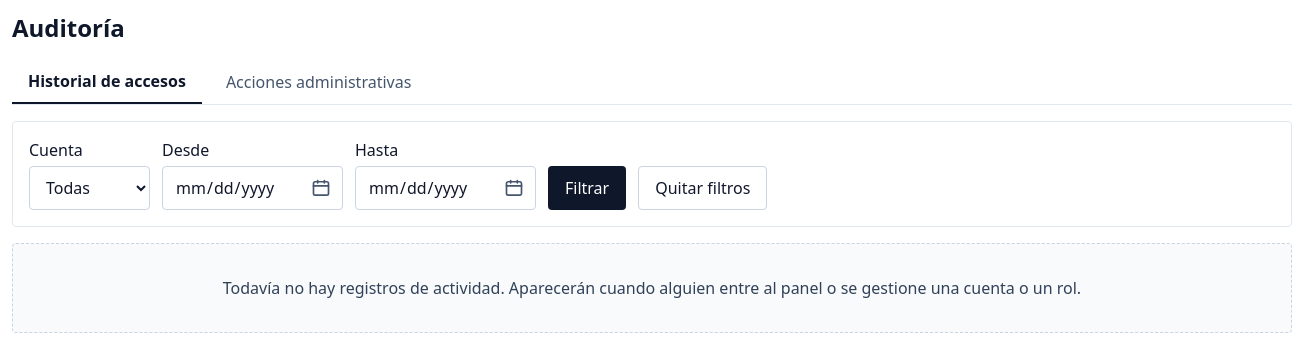
Scenario: AuditPage · estados › sin registros muestra el estado vacío, con el texto propio si hay filtros
Expected: the text "Todavía no hay registros de actividad. Aparecerán cuando alguien entre al panel o se gestione una cuenta o un rol." is shown, [223,277,1081,299]
Select "Ana Pérez" in the dropdown labelled "Cuenta" at [90, 188], box [29,166,150,210]
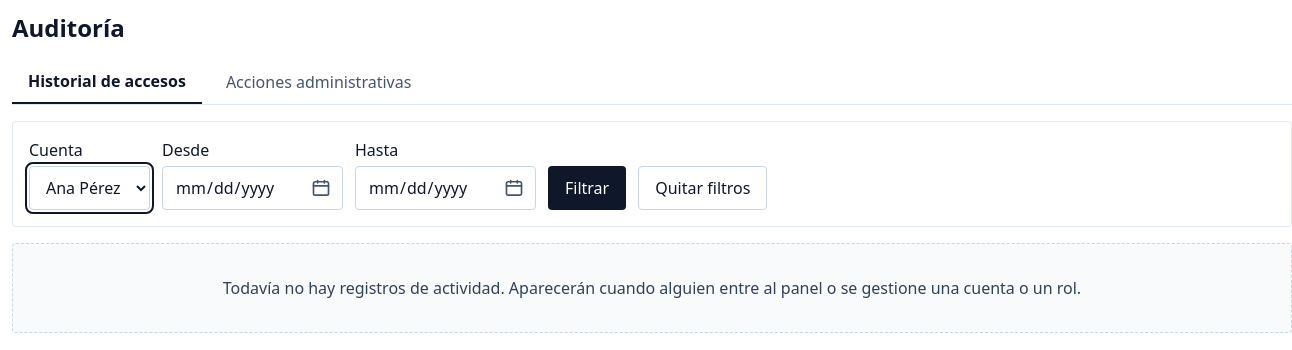
Click the button "Filtrar" at [587, 188], box [548,166,626,210]
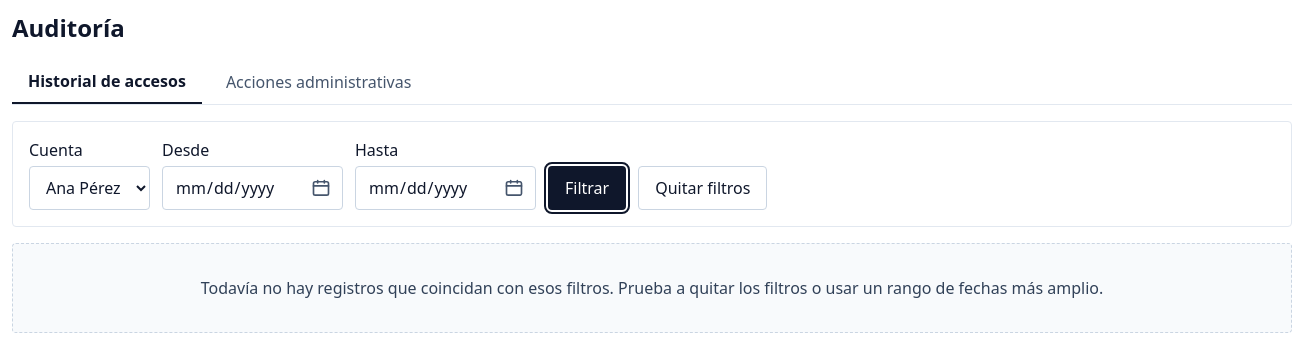
Expected: the text "Todavía no hay registros que coincidan con esos filtros" is shown, [201,277,1103,299]
